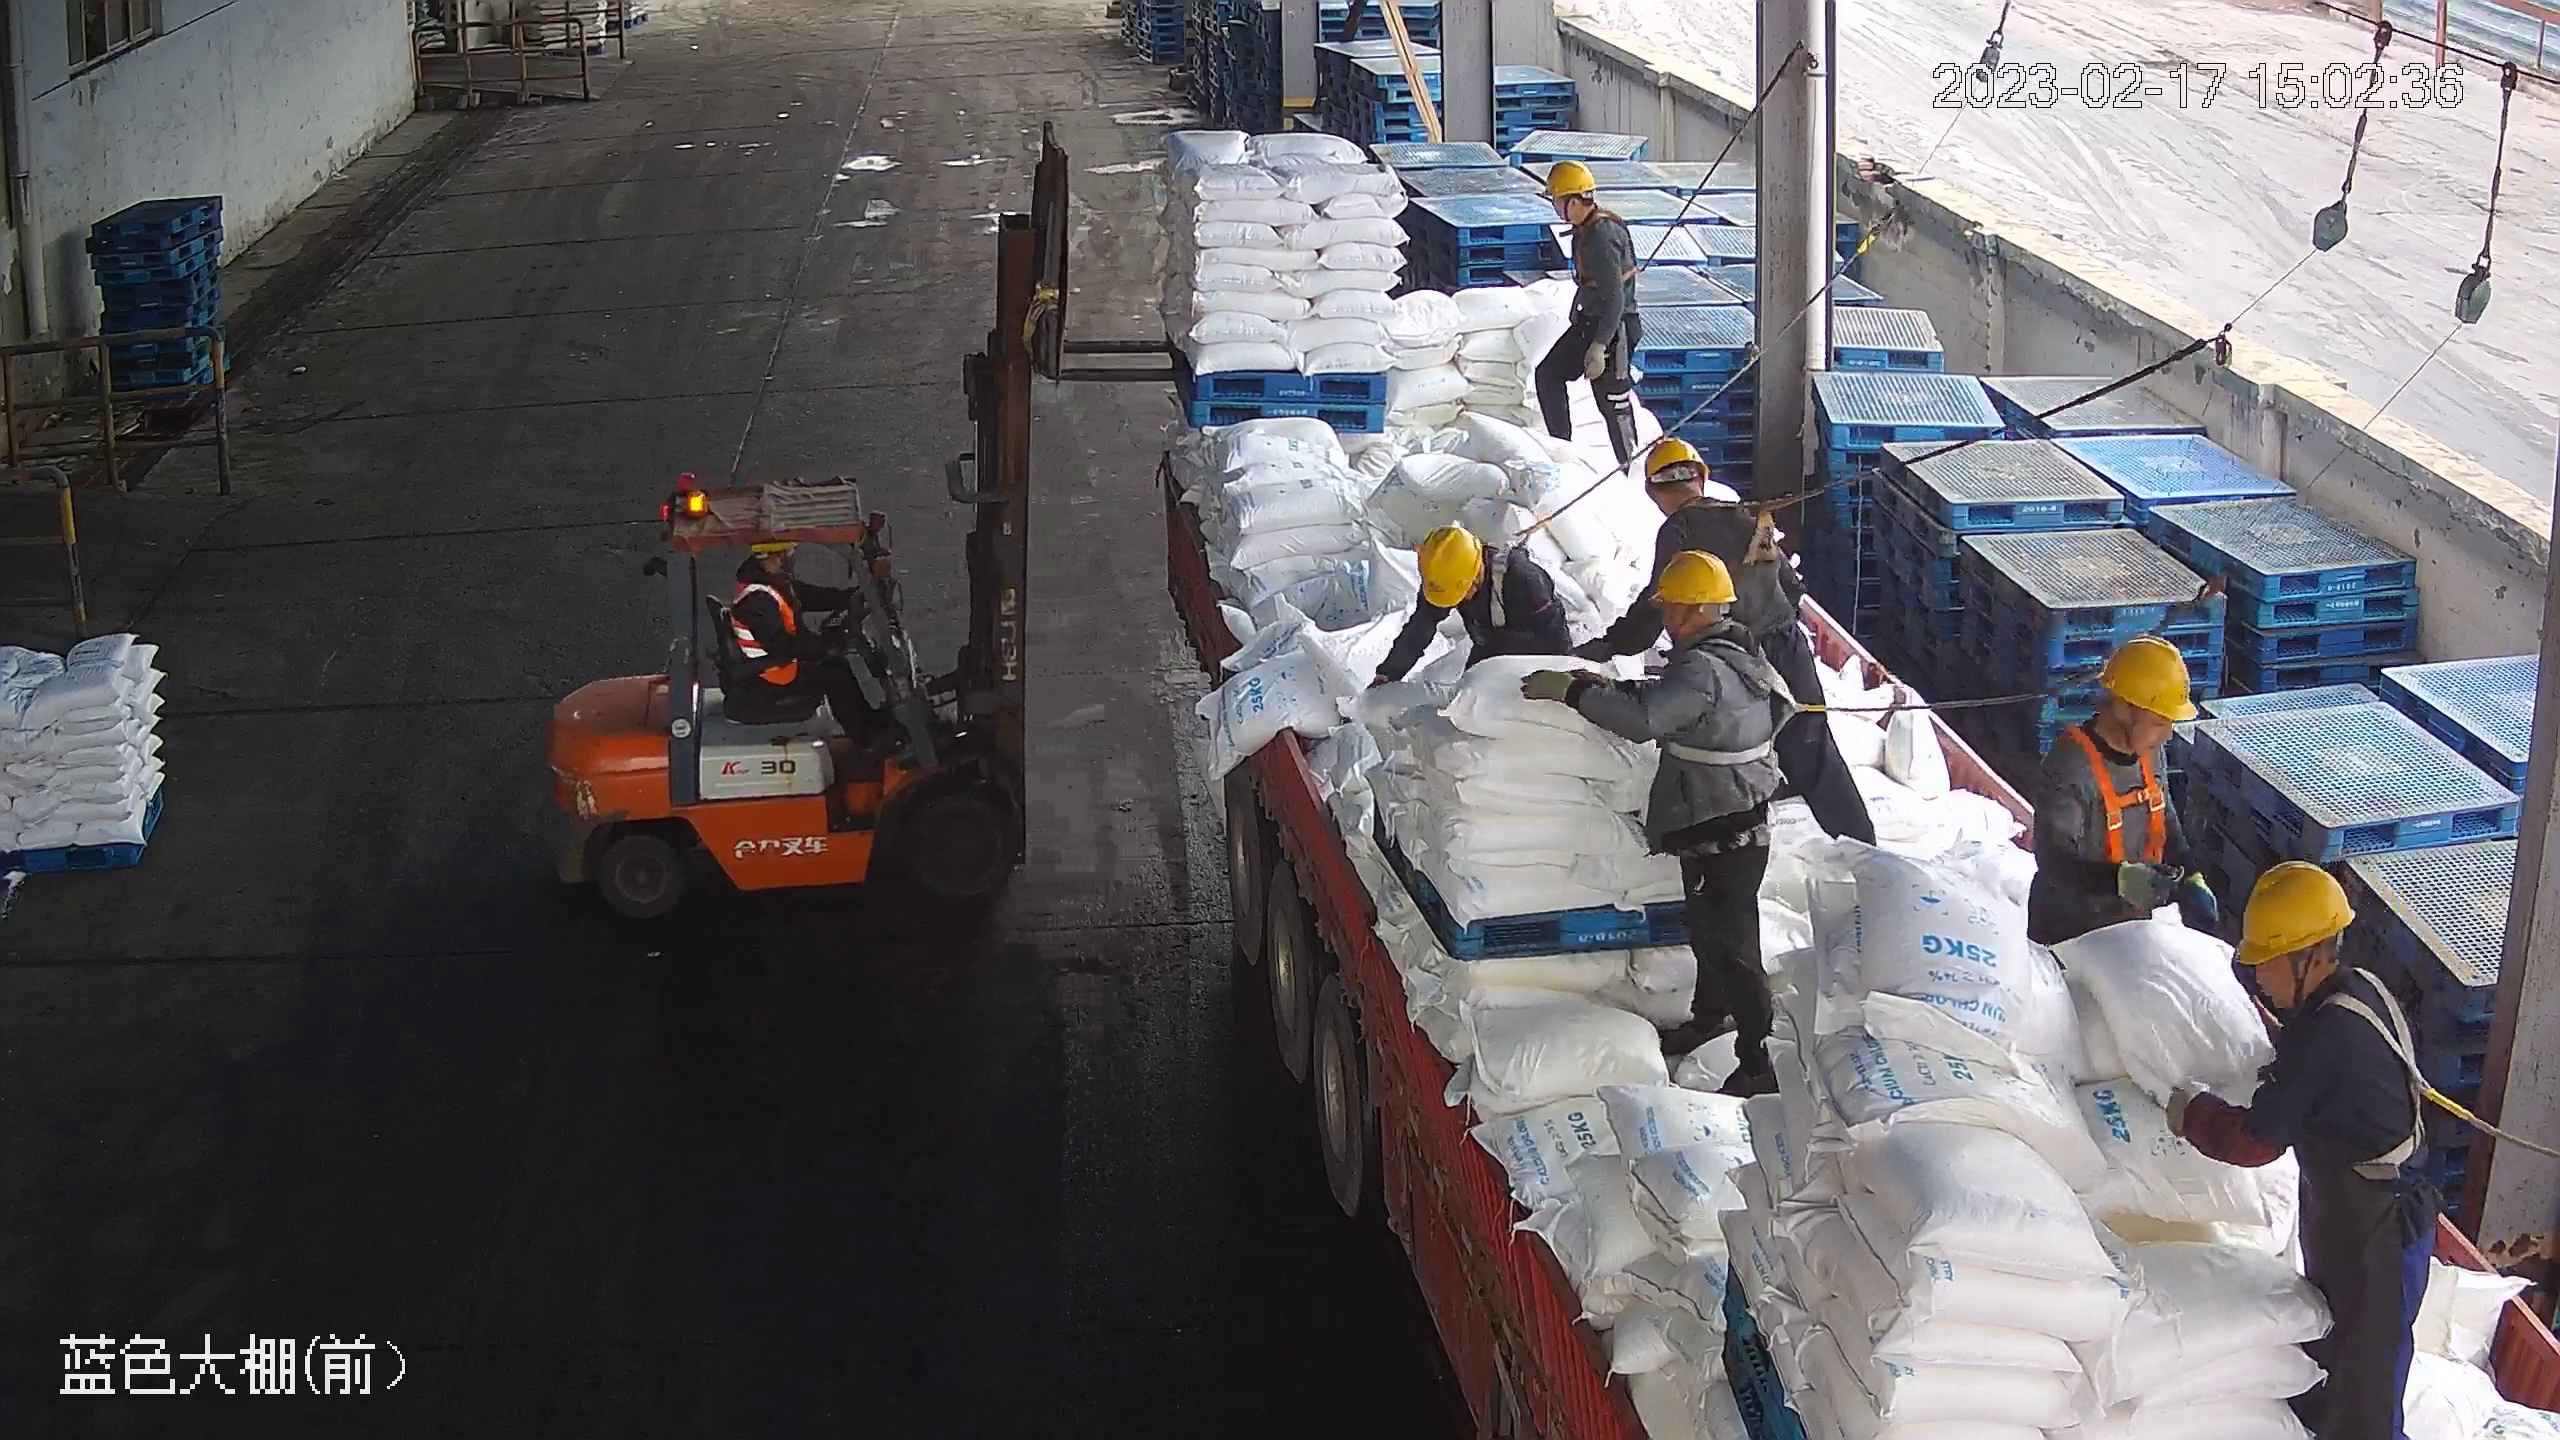belt: (2305, 969, 2460, 1180), (1659, 633, 1809, 774), (2066, 724, 2181, 873), (1693, 489, 1800, 576), (1464, 526, 1530, 629), (1570, 206, 1648, 289)
head: (2225, 859, 2425, 1102), (2037, 630, 2204, 808), (1625, 546, 1780, 692), (1408, 521, 1552, 622), (1644, 436, 1778, 544), (1539, 158, 1629, 251), (733, 546, 806, 620)
helmet: (2228, 858, 2356, 965), (2096, 631, 2200, 725), (1416, 525, 1482, 613), (1652, 549, 1737, 608), (1643, 435, 1711, 492), (1539, 158, 1597, 201)
people: (2165, 862, 2442, 1439), (1523, 545, 1786, 1103), (1619, 431, 1874, 838), (1529, 155, 1646, 473), (727, 542, 896, 757)
truck: (1112, 75, 2551, 1439)
